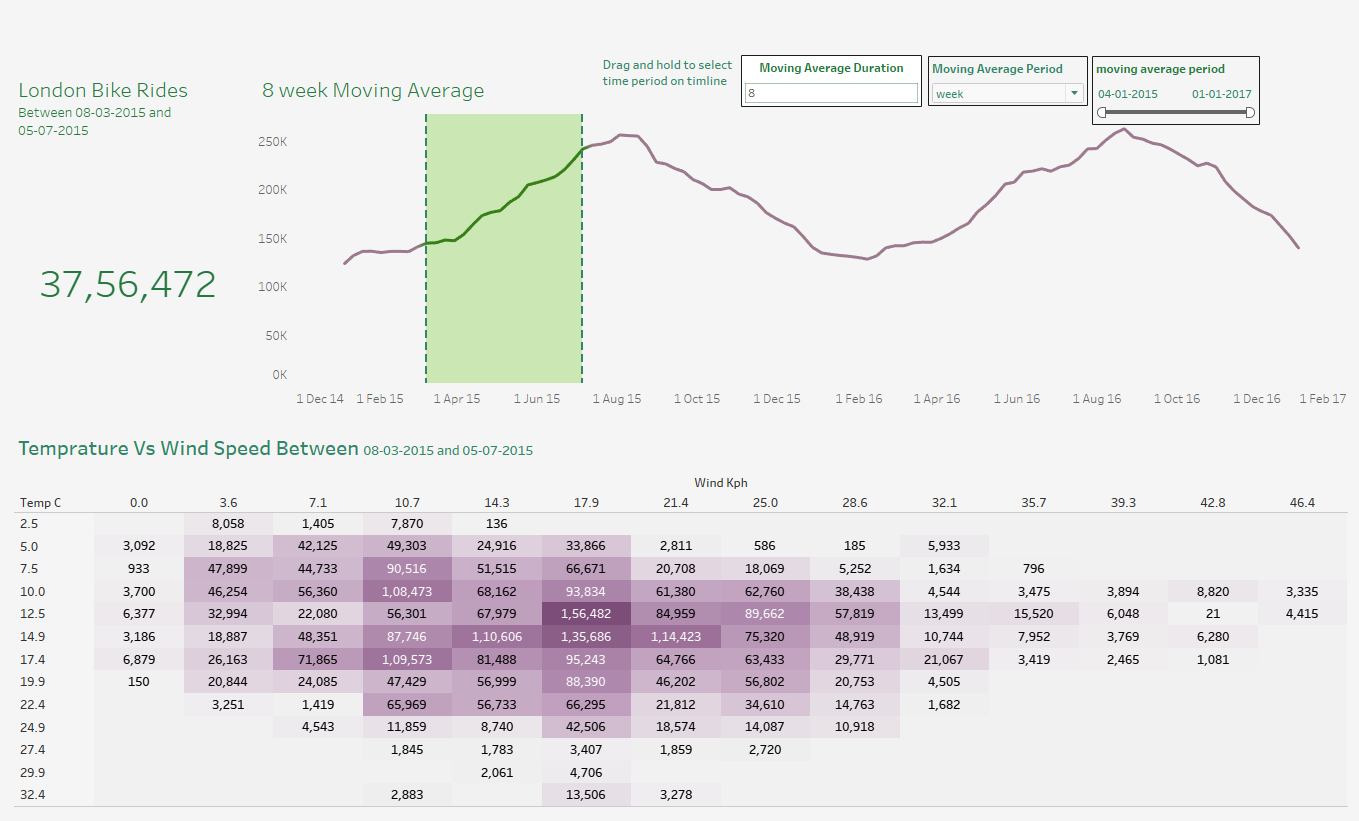

This screenshot's page, from the dashboard's own definition file:
{"tool":"tableau","page":{"name":"Dashboard 1","canvas":[1366,768],"ordinal":0},"visuals":[{"type":"parameter","param":"[Parameters].[Parameter 2]","box":[743,0,181,52]},{"type":"text","box":[602,1,135,34]},{"type":"parameter","param":"[Parameters].[Parameter 1]","box":[930,1,160,50]},{"type":"filter","title":"Moving Average","param":"[federated.15c9z4u1h7b5n61a7x6k30vxm6hh].[none:Calculation_964896261582233605:qk","box":[1094,1,168,69]},{"type":"worksheet","title":"Total Rides","mark":"Automatic","box":[8,8,244,358]},{"type":"worksheet","title":"Moving Average","mark":"Automatic","rows":["Calculation1"],"cols":["Calculation_964896261582233605"],"box":[252,8,1106,358]},{"type":"worksheet","title":"HeatMap","mark":"Square","rows":["temp real C (bin)"],"cols":["Wind Speed Kph (bin)"],"box":[8,366,1350,394]}]}

Visuals, with their boxes on the page's 1366x768 design canvas (x1, y1, x2, y2). These are canvas units, not pixel positions in the 1359x821 screenshot, which may show the page scaled, cropped or inside an application window:
parameter: [743,0,924,52]
text: [602,1,737,35]
parameter: [930,1,1090,51]
"Moving Average" filter: [1094,1,1262,70]
"Total Rides" worksheet: [8,8,252,366]
"Moving Average" worksheet: [252,8,1358,366]
"HeatMap" worksheet (Square marks): [8,366,1358,760]
